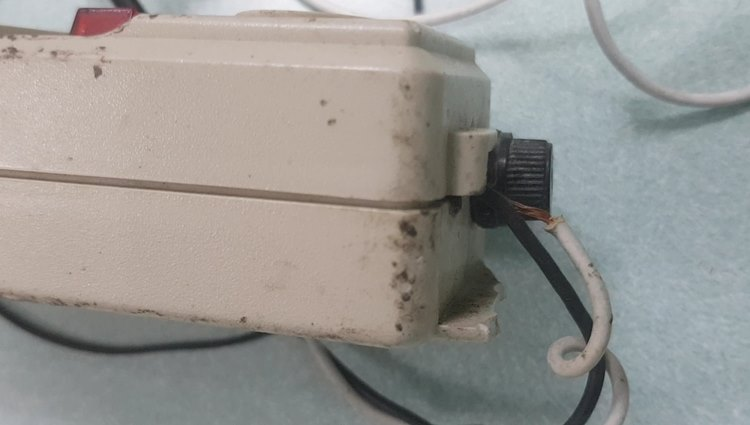Three_eye_plug: (1, 1, 560, 360)
